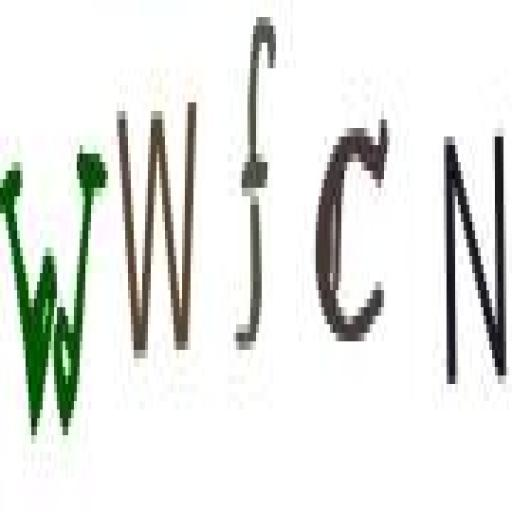N: (439, 127, 510, 407)
W: (0, 131, 109, 452), (115, 90, 199, 369)
c: (308, 98, 394, 374)
f: (230, 3, 283, 383)
